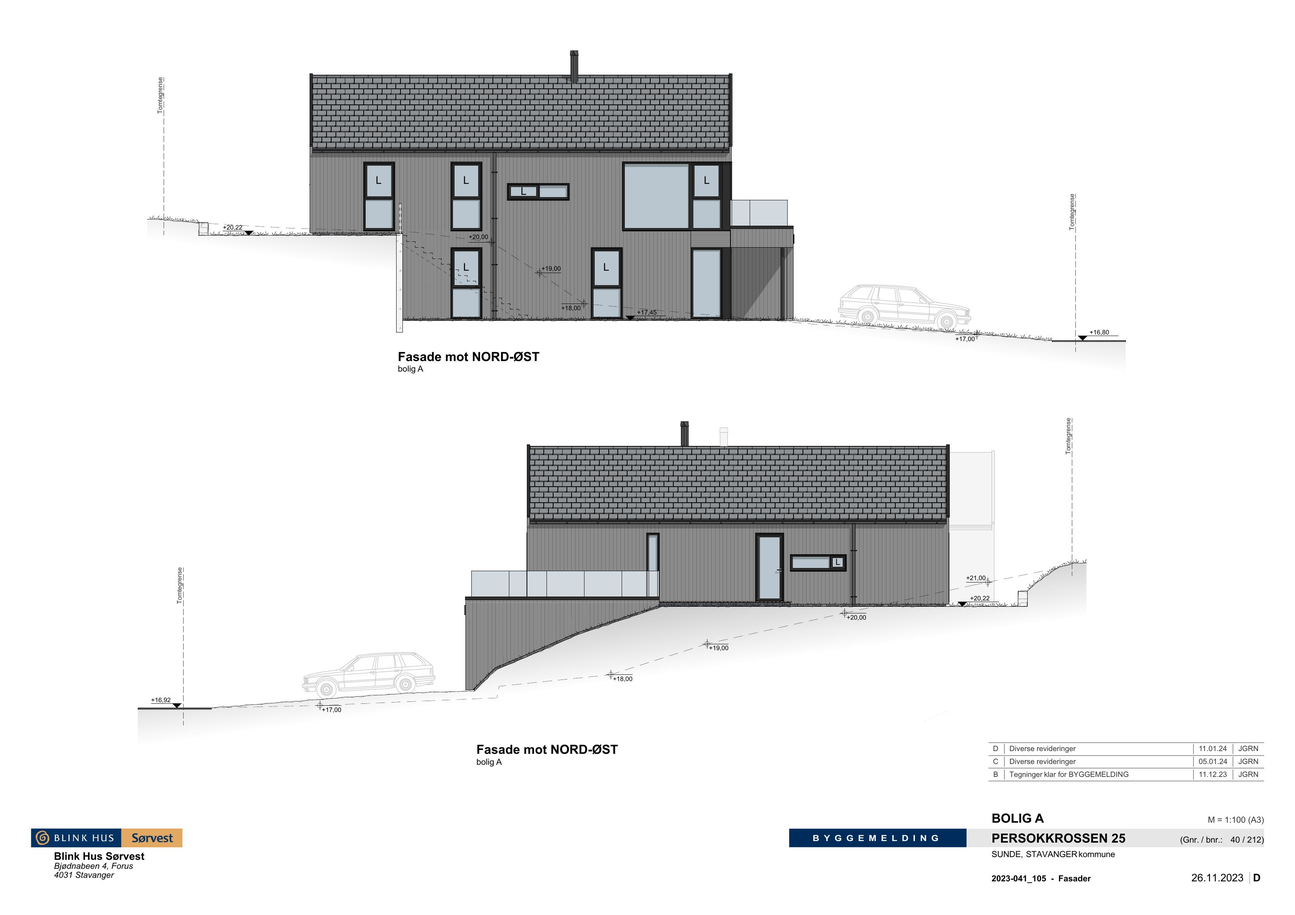fasade: (469, 420, 952, 692), (309, 52, 794, 321)
